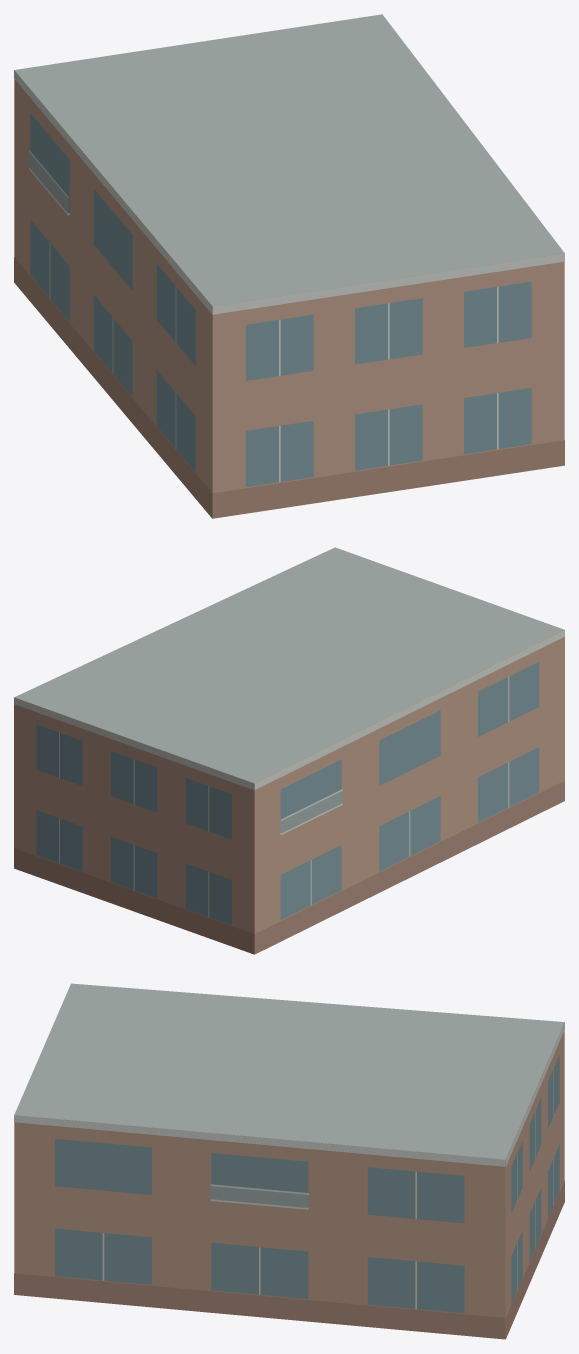
File: survey-upis-32779608.glb
The picture shows the model from 3 angles, top to bottom: view 1: azimuth 30°, elevation 25°; view 2: azimuth 150°, elevation 25°; view 3: azimuth 270°, elevation 25°; orthographic projection. The views are drawn at different scales.
Visible parts, largest first — view 1: survey-upis-32779608.tmp; view 2: survey-upis-32779608.tmp; view 3: survey-upis-32779608.tmp.
Part boxes in pixels (x1,y1,x2,y2): survey-upis-32779608.tmp: [14, 14, 564, 518]; survey-upis-32779608.tmp: [14, 547, 564, 954]; survey-upis-32779608.tmp: [14, 983, 564, 1339].
Bounding box in the file's own units: 12.84 × 6.1 × 16.95.
